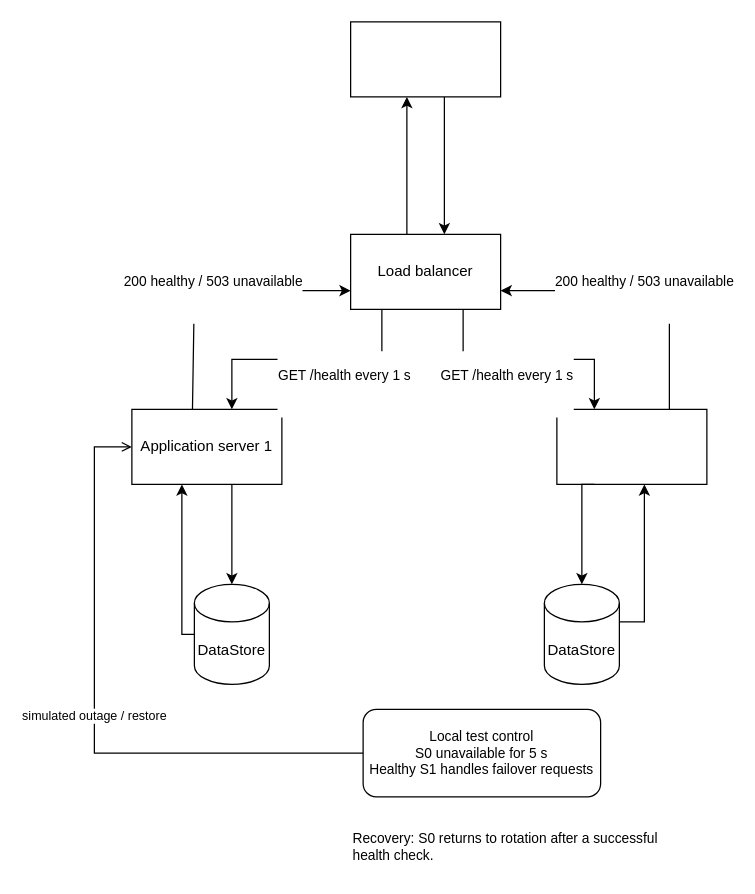
This 755x894 diagram has some shape labels left out. Each missing label, with the box of its shape:
Application server 2: (556, 408, 707, 484)
Clients: (349, 21, 501, 97)
